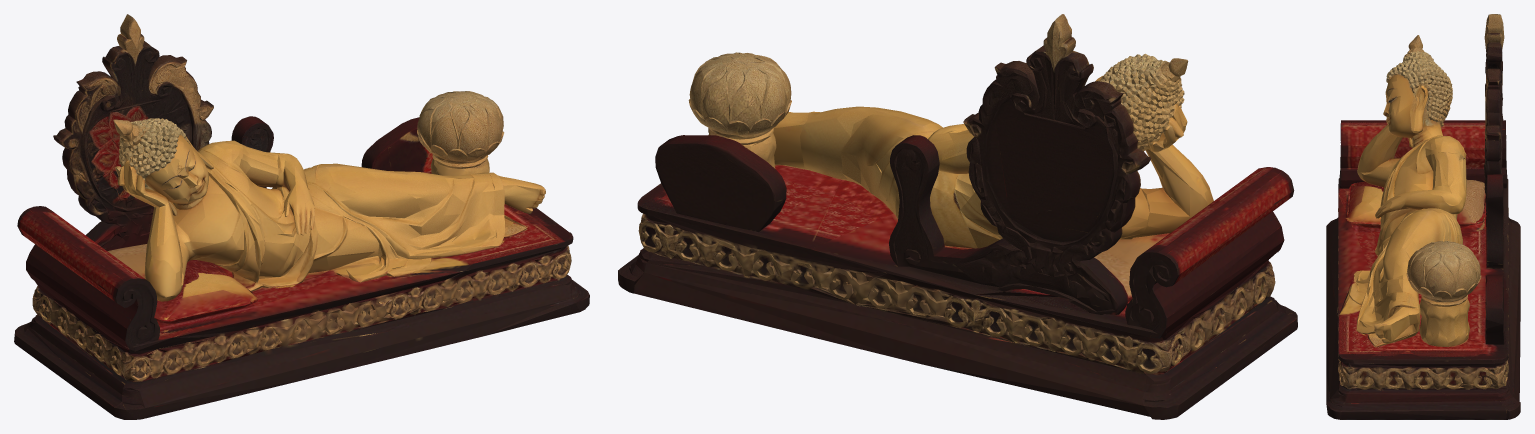
The model's file is cho-ngu-cua-phat.glb.
3 views of the same model, side by side, from view 1: azimuth 30°, elevation 25°; view 2: azimuth 150°, elevation 25°; view 3: azimuth 270°, elevation 25° (orthographic). The views are drawn at different scales.
Bounding box in the file's own units: 1.9 × 1.18 × 0.8087.
1 material, 1 textured.
